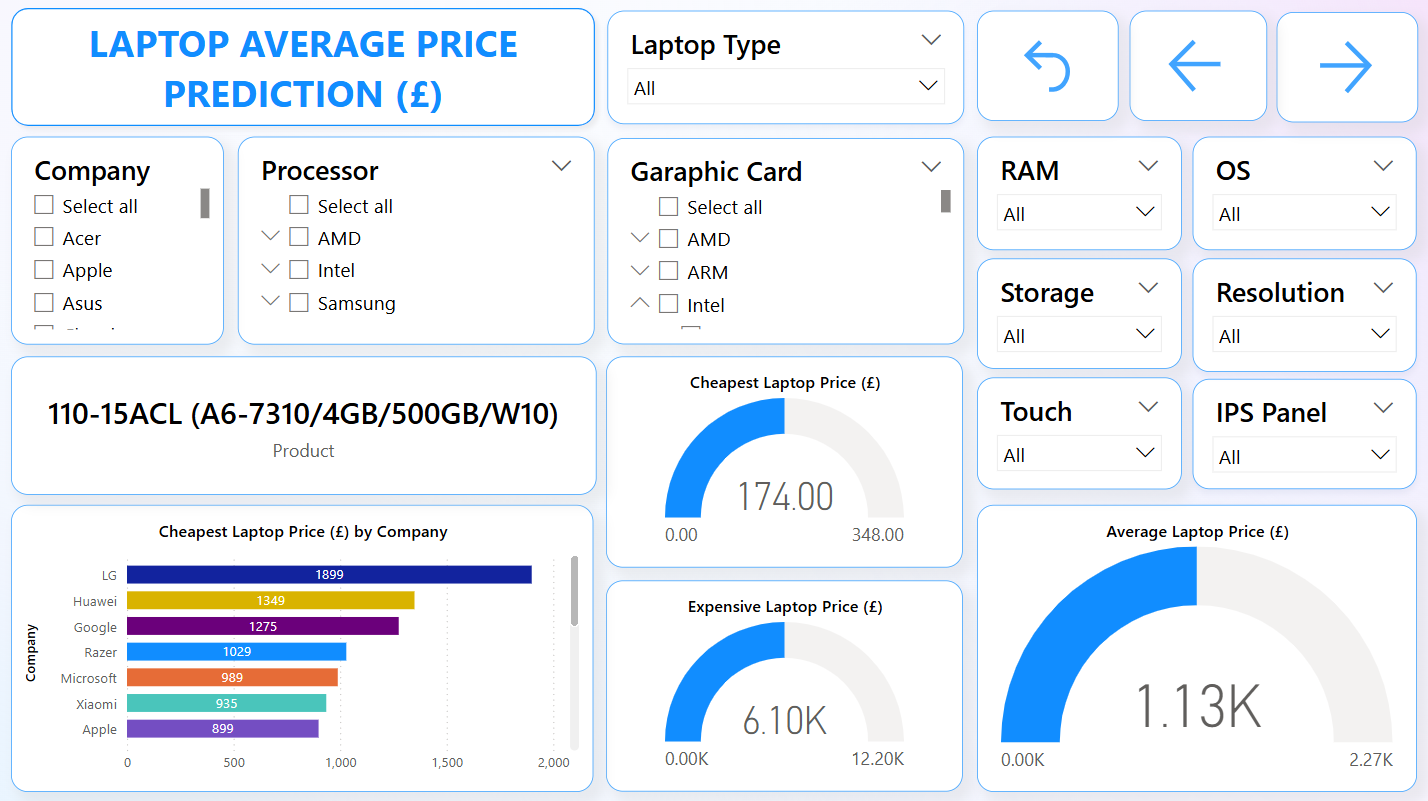

Layout of this report page (visuals, bound fields, positions):
{"tool":"powerbi","page":{"name":"Price Predictor","canvas":[1280,720],"ordinal":2},"visuals":[{"type":"slicer","fields":{"Values":["laptop_prices.CPU_company","laptop_prices.CPU_model"]},"box":[214.5,123.2,318.8,185.5],"z":0},{"type":"slicer","fields":{"Values":["laptop_prices.Company"]},"box":[13,123.2,189.9,185.5],"z":1000},{"type":"slicer","fields":{"Values":["laptop_prices.GPU_company","laptop_prices.GPU_model"]},"box":[544.9,124.6,318.8,184.1],"z":2000},{"type":"gauge","fields":{"Y":["Min(laptop_prices.Price_euros)"]},"box":[543.5,320.3,318.8,188.4],"z":3000},{"type":"gauge","fields":{"Y":["Max(laptop_prices.Price_euros)"]},"box":[543.5,520.3,318.8,188.4],"z":4000},{"type":"gauge","fields":{"Y":["Avg(laptop_prices.Price_euros)"]},"box":[875.4,452.2,392.8,256.5],"z":5000},{"type":"barChart","title":"Cheapest Laptop Price (£) by Company","fields":{"Category":["laptop_prices.Company"],"Y":["Min(laptop_prices.Price_euros)"],"Series":["laptop_prices.Company"]},"box":[13,452.2,520.3,256.5],"z":6000},{"type":"slicer","fields":{"Values":["laptop_prices.Ram"]},"box":[875.4,123.2,182.6,101.4],"z":7000},{"type":"shape","box":[4.3,0,539.1,123.2],"z":8000},{"type":"slicer","fields":{"Values":["laptop_prices.PrimaryStorage"]},"box":[875.4,231.9,182.6,98.6],"z":9000},{"type":"slicer","fields":{"Values":["laptop_prices.Touchscreen"]},"box":[875.4,339.1,182.6,100],"z":10000},{"type":"slicer","fields":{"Values":["laptop_prices.TypeName"]},"box":[544.9,11.6,318.8,101.4],"z":11000},{"type":"slicer","fields":{"Values":["laptop_prices.IPSpanel"]},"box":[1068.1,340.6,200,98.6],"z":12000},{"type":"slicer","fields":{"Values":["laptop_prices.OS"]},"box":[1068.1,123.2,200,101.4],"z":13000},{"type":"slicer","fields":{"Values":["laptop_prices.Screen"]},"box":[1068.1,231.9,200,101.4],"z":14000},{"type":"actionButton","box":[1142,13,126.1,98.6],"z":15000},{"type":"actionButton","box":[1011.6,11.6,123.2,98.6],"z":16000},{"type":"actionButton","box":[875.4,11.6,126.1,98.6],"z":17000},{"type":"card","fields":{"Values":["Min(laptop_prices.Product)"]},"box":[12.5,320,522.5,123.8],"z":18000}]}

Visuals, with their boxes in screenshot pixels (x1, y1, x2, y2), scaled from the page's 1280x720 canvas onto the 1428x801 screenshot:
slicer - laptop_prices.CPU_company x laptop_prices.CPU_model: left=239, top=137, right=595, bottom=343
slicer - laptop_prices.Company: left=15, top=137, right=226, bottom=343
slicer - laptop_prices.GPU_company x laptop_prices.GPU_model: left=608, top=139, right=964, bottom=343
gauge - Min(laptop_prices.Price_euros): left=606, top=356, right=962, bottom=566
gauge - Max(laptop_prices.Price_euros): left=606, top=579, right=962, bottom=788
gauge - Avg(laptop_prices.Price_euros): left=977, top=503, right=1415, bottom=788
"Cheapest Laptop Price (£) by Company" barChart: left=15, top=503, right=595, bottom=788
slicer - laptop_prices.Ram: left=977, top=137, right=1180, bottom=250
shape: left=5, top=0, right=606, bottom=137
slicer - laptop_prices.PrimaryStorage: left=977, top=258, right=1180, bottom=368
slicer - laptop_prices.Touchscreen: left=977, top=377, right=1180, bottom=488
slicer - laptop_prices.TypeName: left=608, top=13, right=964, bottom=126
slicer - laptop_prices.IPSpanel: left=1192, top=379, right=1415, bottom=489
slicer - laptop_prices.OS: left=1192, top=137, right=1415, bottom=250
slicer - laptop_prices.Screen: left=1192, top=258, right=1415, bottom=371
actionButton: left=1274, top=14, right=1415, bottom=124
actionButton: left=1129, top=13, right=1266, bottom=123
actionButton: left=977, top=13, right=1117, bottom=123
card - Min(laptop_prices.Product): left=14, top=356, right=597, bottom=494
